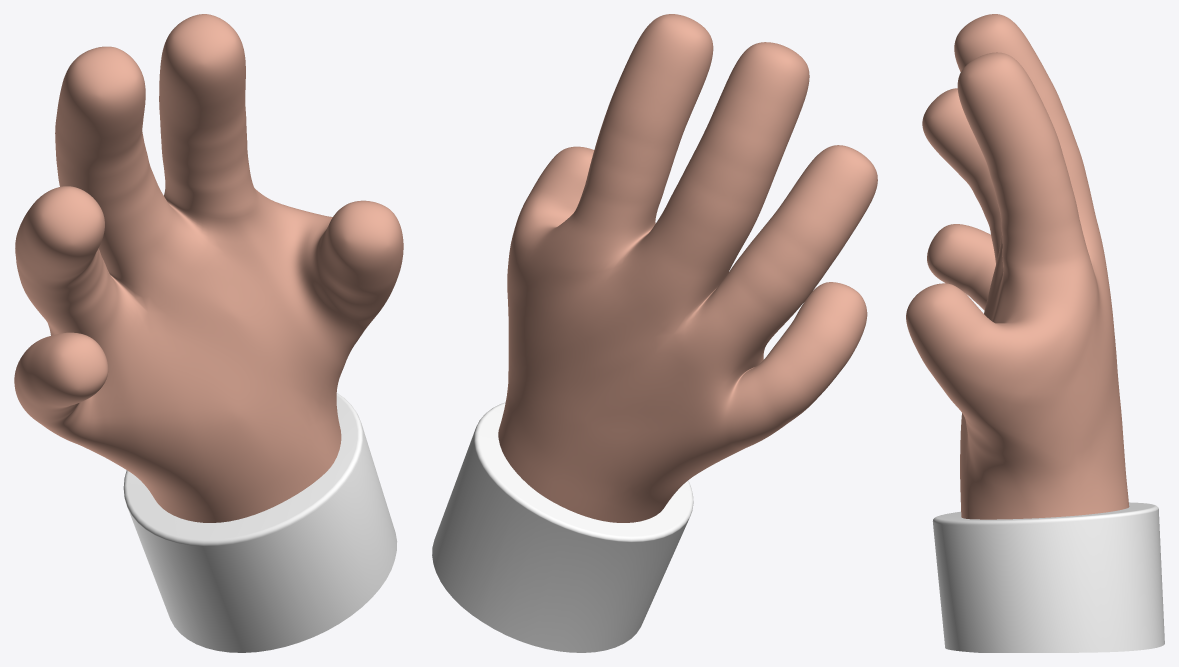
The model's file is emoji_shirt_smaller.glb.
3 renders of one model, left to right at view 1: azimuth 30°, elevation 25°; view 2: azimuth 150°, elevation 25°; view 3: azimuth 270°, elevation 25°, orthographic. The views are drawn at different scales.
Parts seen in each view (by area): view 1: hand, shirt; view 2: hand, shirt; view 3: hand, shirt.
Boxes of the visible parts, <box> form: hand: <box>14,14,403,522</box>; shirt: <box>123,393,397,652</box>; hand: <box>498,14,877,522</box>; shirt: <box>432,402,693,652</box>; hand: <box>906,14,1129,519</box>; shirt: <box>932,502,1164,652</box>.
Size of the model in its own units: 3.41 by 5.27 by 2.14.
